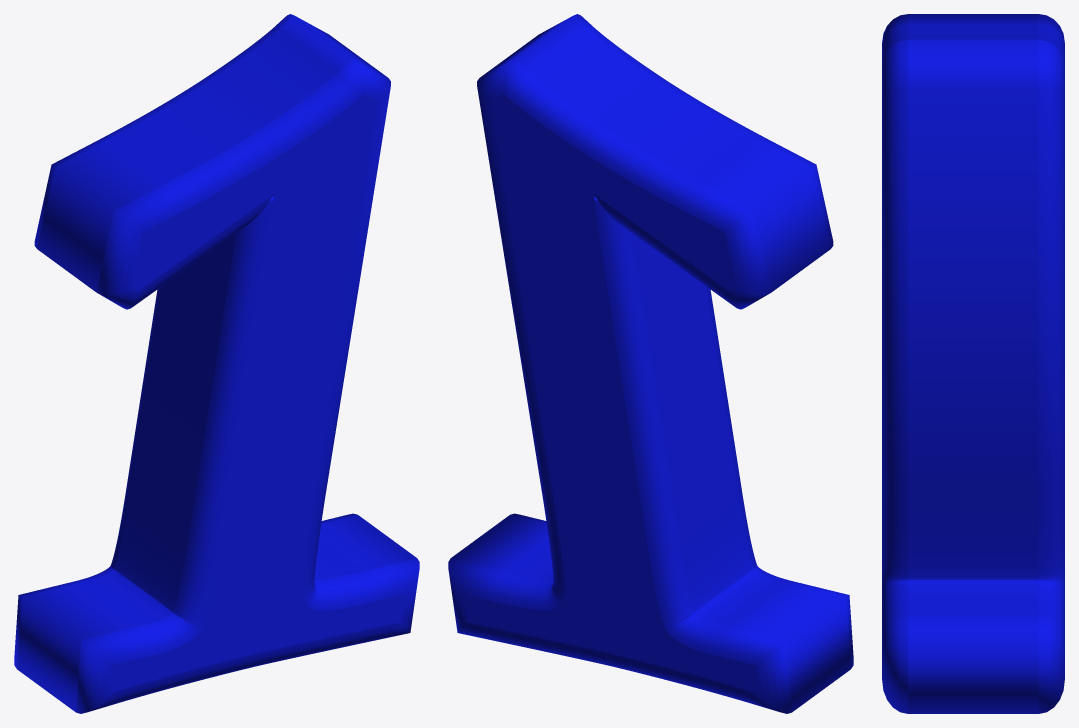
Rendered from number_1.fbx.
3 renders of one model, left to right at view 1: azimuth 30°, elevation 25°; view 2: azimuth 150°, elevation 25°; view 3: azimuth 270°, elevation 25°, orthographic. The views are drawn at different scales.
Parts seen in each view (by area): view 1: Text; view 2: Text; view 3: Text.
Boxes of the visible parts, left/top/right/bottom form: Text: left=14, top=14, right=419, bottom=713; Text: left=448, top=14, right=853, bottom=713; Text: left=882, top=14, right=1064, bottom=713.
Size of the model in its own units: 165 by 271 by 69.41.
